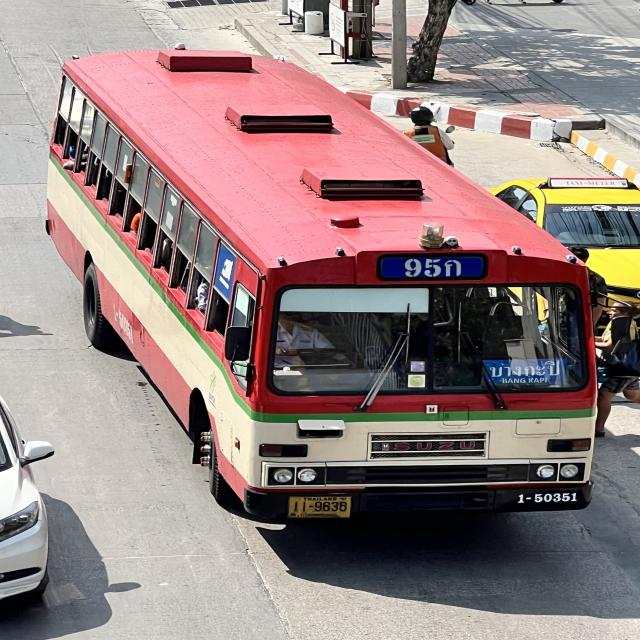BMTA-bus: (44, 47, 602, 529)
Bus-Line-Number: (377, 253, 492, 285)
Destination-Sign-Normal: (477, 359, 569, 387)
